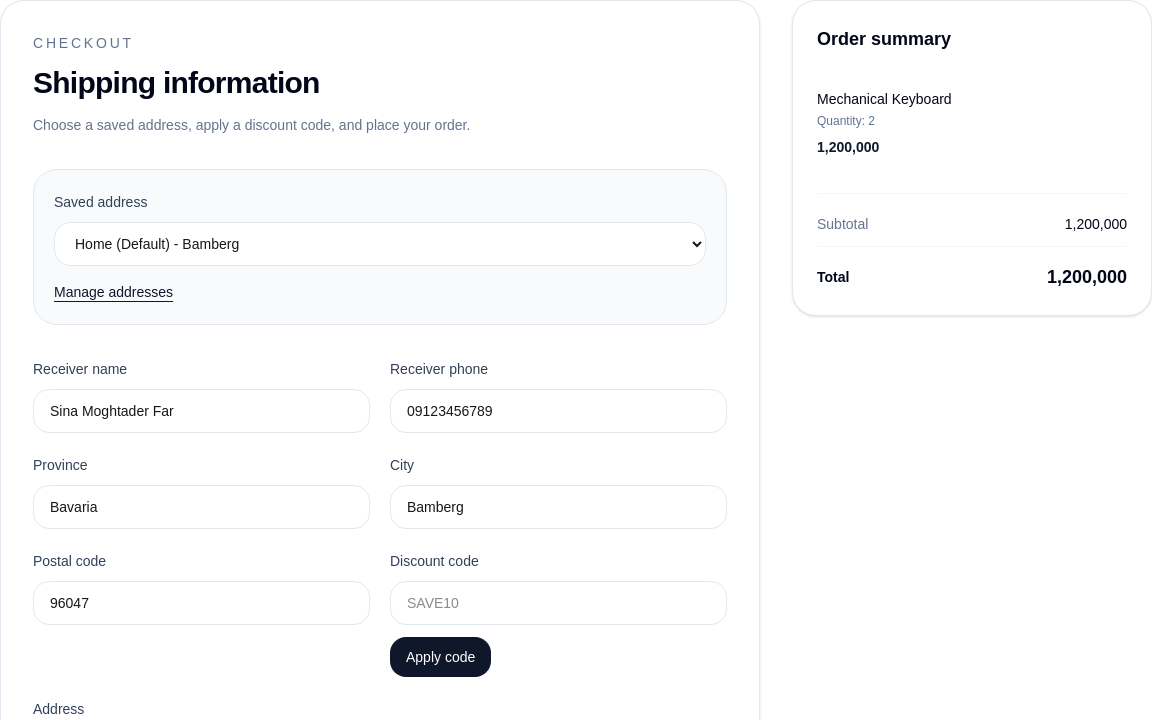
CheckoutForm › shows discount validation errors
expect the heading "Shipping information" is shown: met, box [33,66,320,99]
Type "oldcode" into the field labelled "Discount code" at [558, 603], box [390,581,727,625]
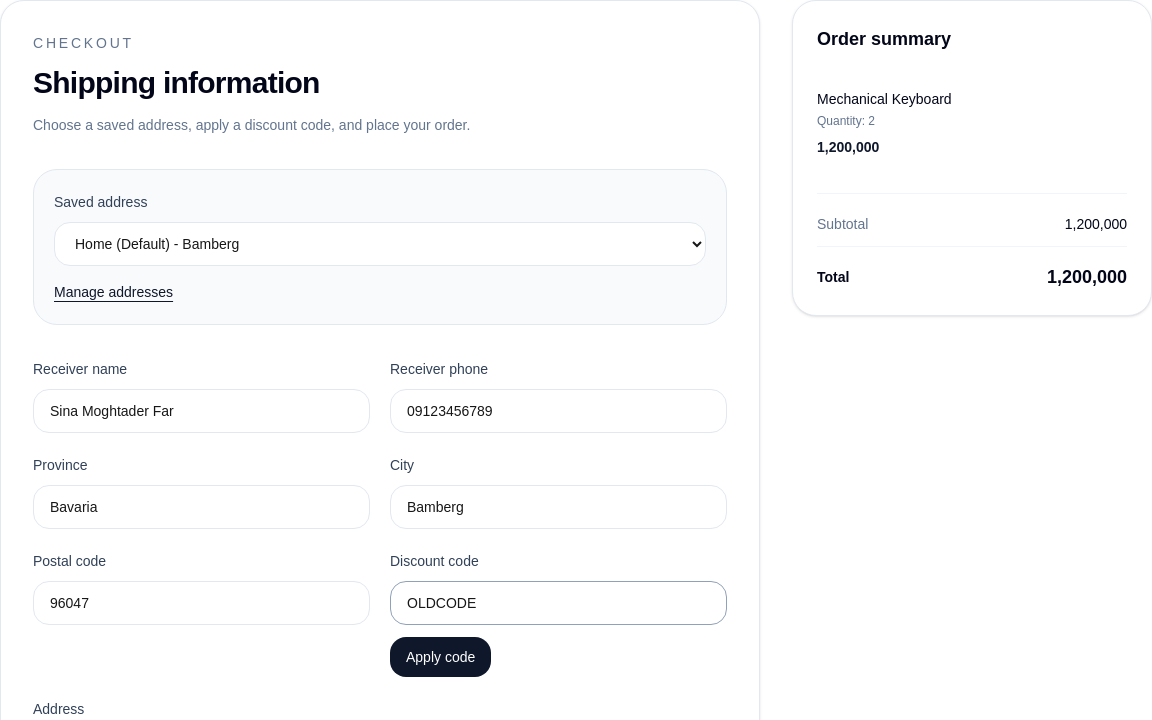
Click the button "Apply code" at [441, 657], box [390,637,491,677]
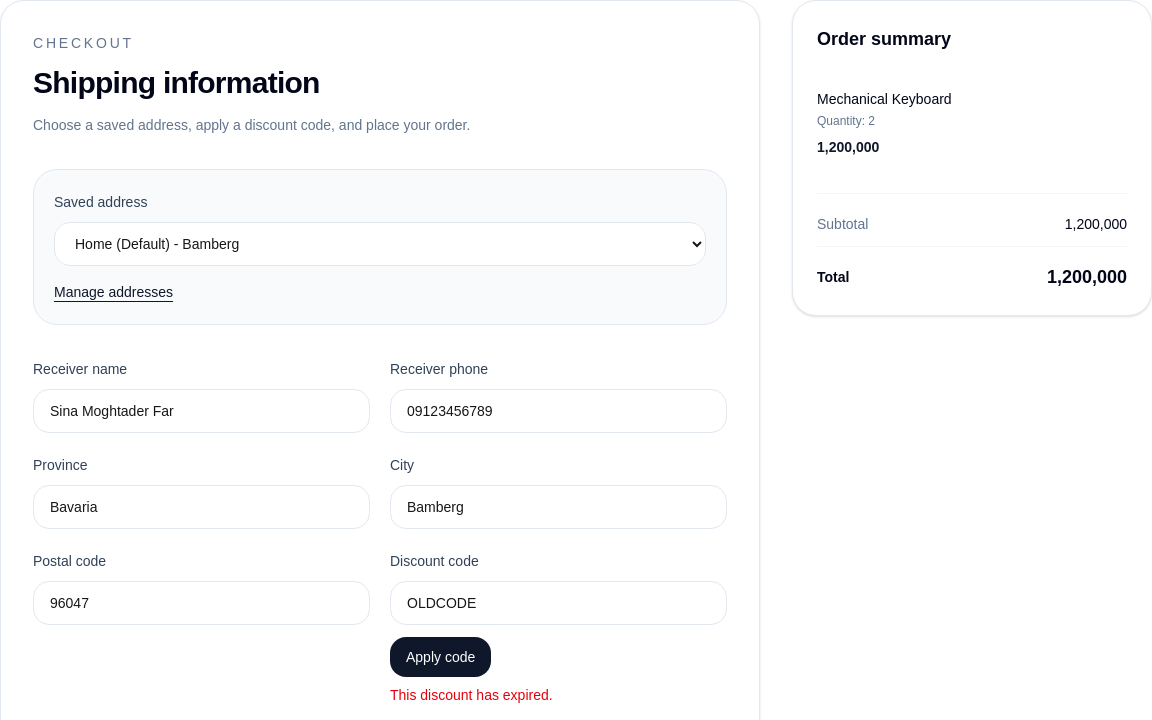
expect the text "This discount has expired." is shown: met, box [390,687,553,703]
